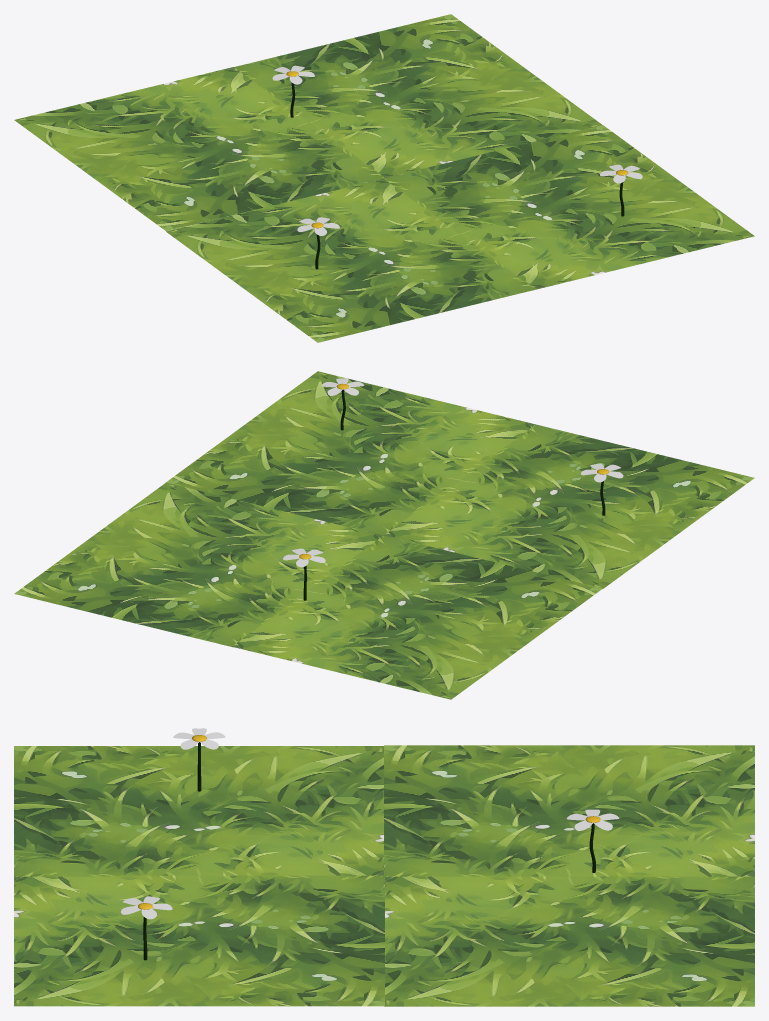
The model's file is grass.glb.
The picture shows the model from 3 angles, top to bottom: view 1: azimuth 30°, elevation 25°; view 2: azimuth 150°, elevation 25°; view 3: azimuth 270°, elevation 25°; orthographic projection. The views are drawn at different scales.
Visible parts, largest first — view 1: file.001, Flower, Flower.001, Flower.002; view 2: file.001, Flower.002, Flower, Flower.001; view 3: file.001, Flower, Flower.001, Flower.002.
Part boxes in pixels (box(x1,y1,x2,y2)): file.001: box(14, 14, 754, 342); Flower: box(297, 217, 339, 269); Flower.001: box(272, 65, 314, 117); Flower.002: box(600, 164, 642, 216); file.001: box(14, 371, 754, 699); Flower.002: box(321, 378, 364, 430); Flower: box(581, 463, 623, 515); Flower.001: box(283, 548, 325, 600); file.001: box(14, 745, 754, 1006); Flower: box(173, 728, 225, 791); Flower.001: box(566, 809, 619, 872); Flower.002: box(121, 896, 172, 960).
Size of the model in its own units: 1.99 by 0.2016 by 2.4.
10 materials, 1 textured.
